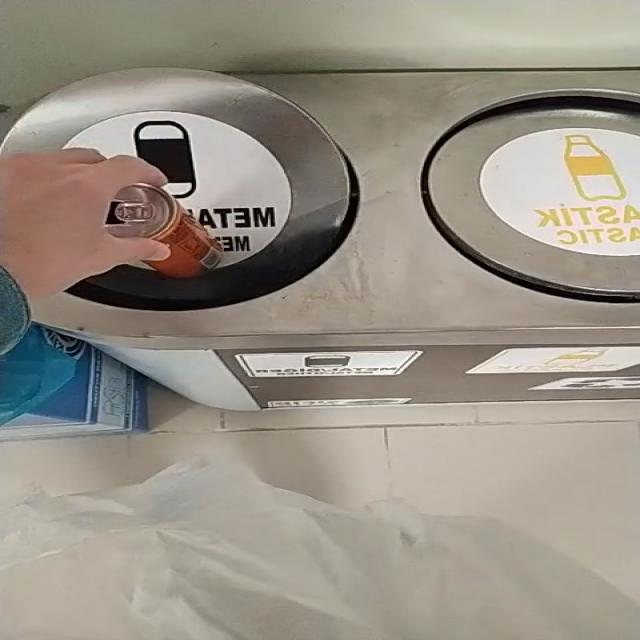bin: (57, 70, 640, 410)
metal: (105, 184, 221, 278)
